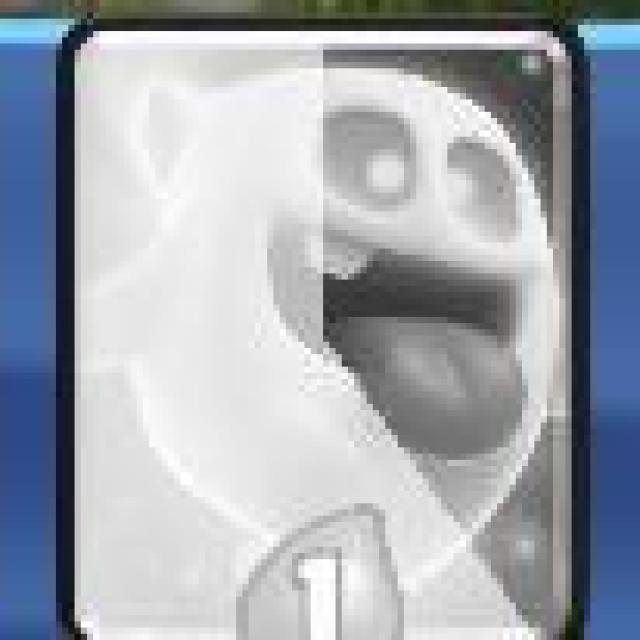Heal_Spirit: (69, 23, 587, 640)
